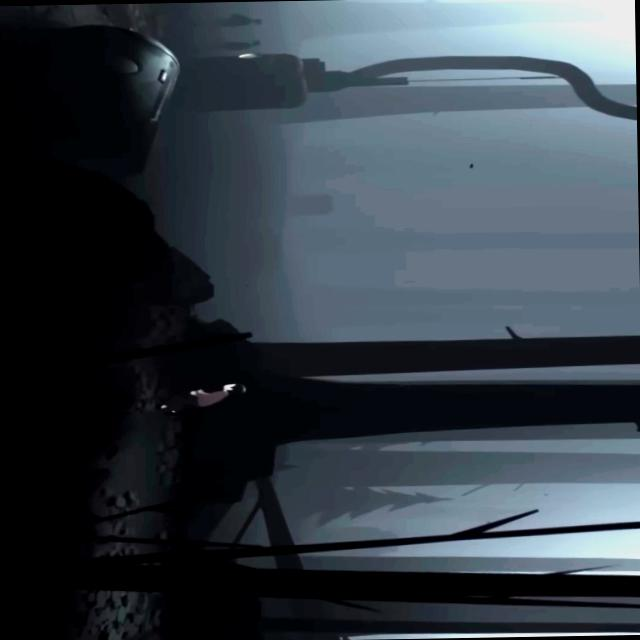boy: (154, 382, 246, 412)
